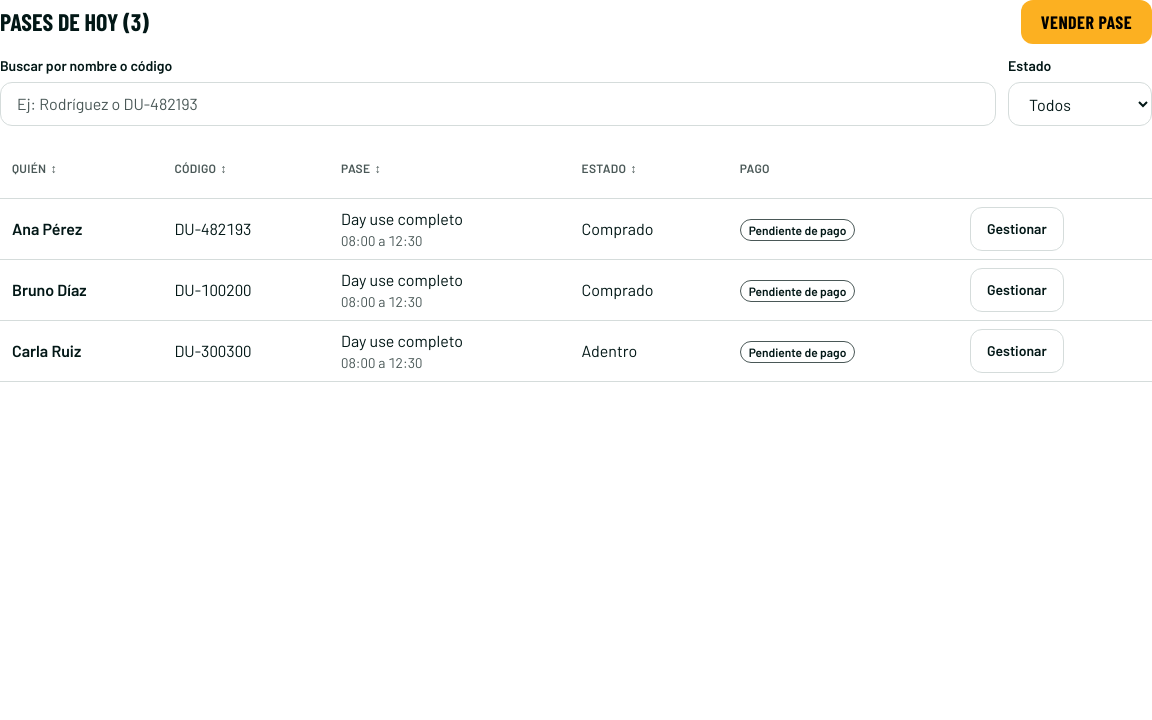
Test: PassesToday › filters by status and opens a pass to manage it
Select "Adentro" in the dropdown labelled "Estado" at (1080, 104), box [1008,82,1151,126]
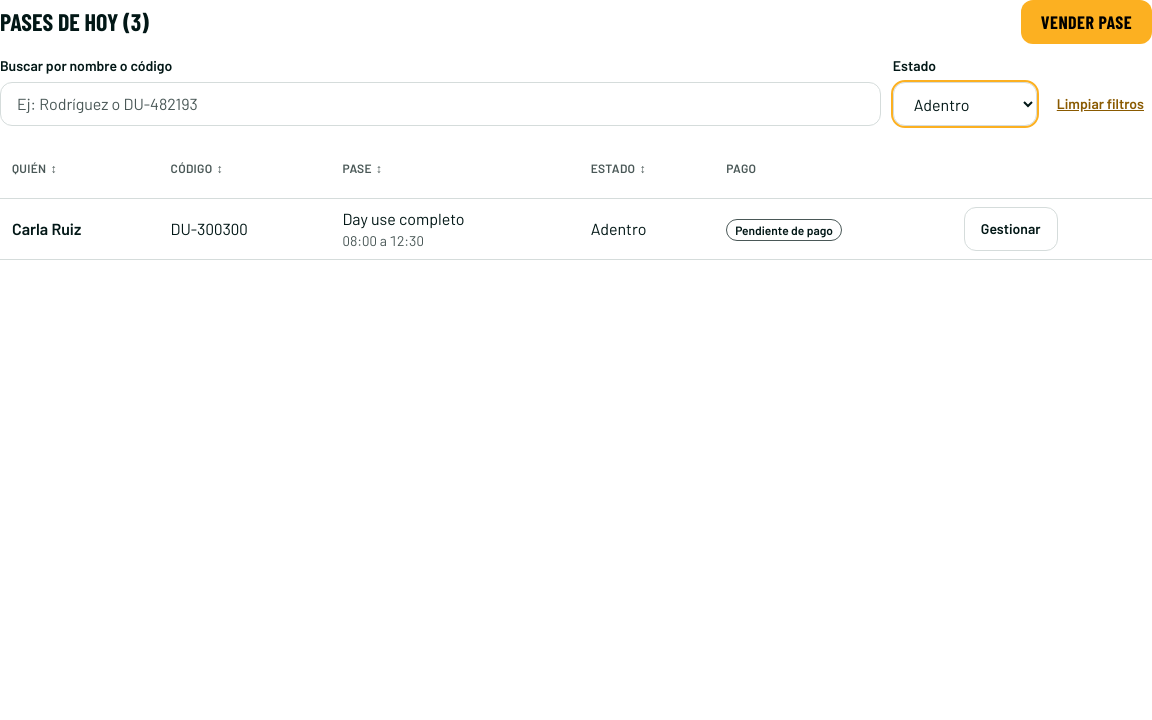
Expected: the number of rows is 2, [0,138,1151,199]; [0,199,1151,260]
Click the button with aria-label "Gestionar el pase de Carla Ruiz".
click(1011, 229)  # box [964,207,1058,251]
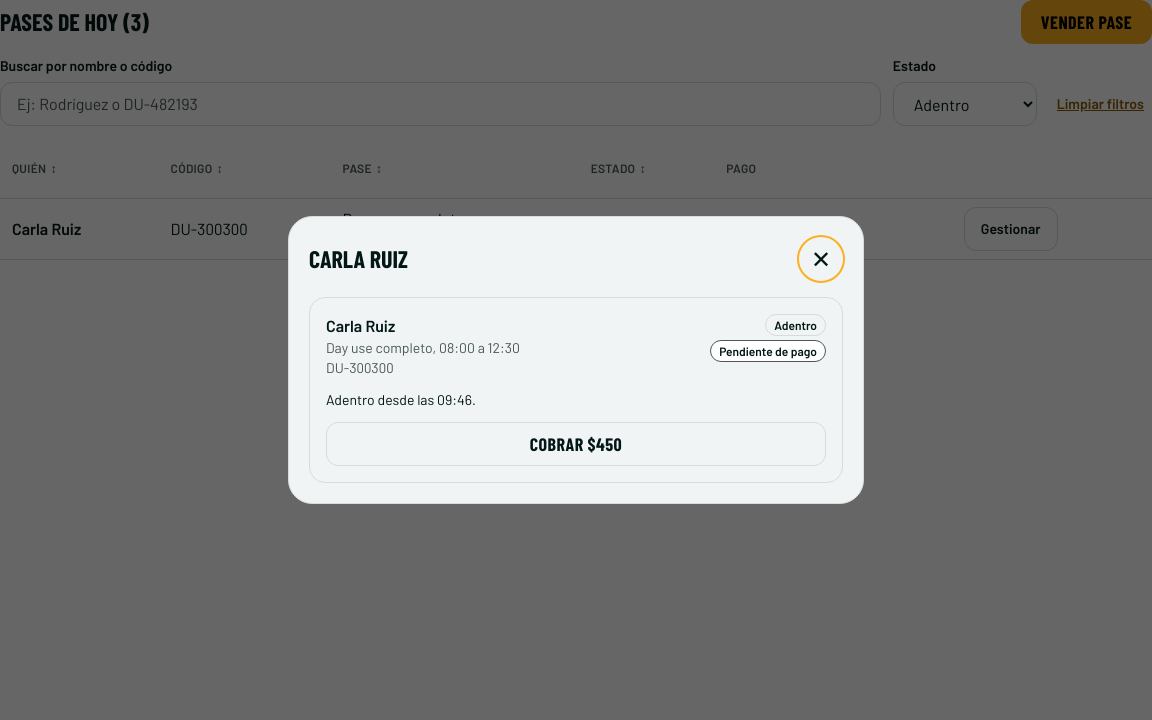
Result: the element "Carla Ruiz" is shown at [309,297,843,483]
